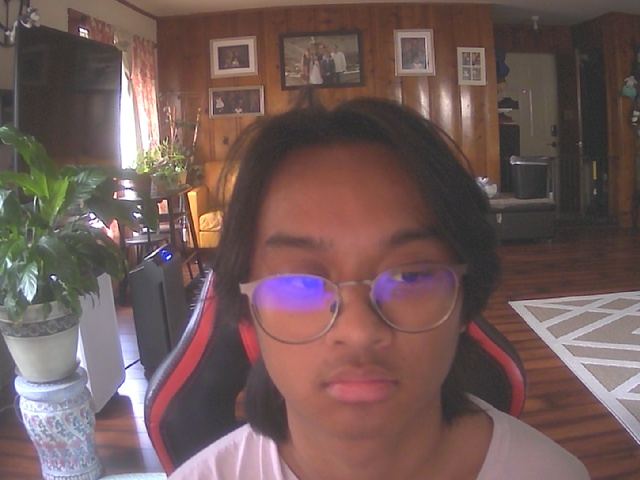neutral: (238, 117, 485, 449)
